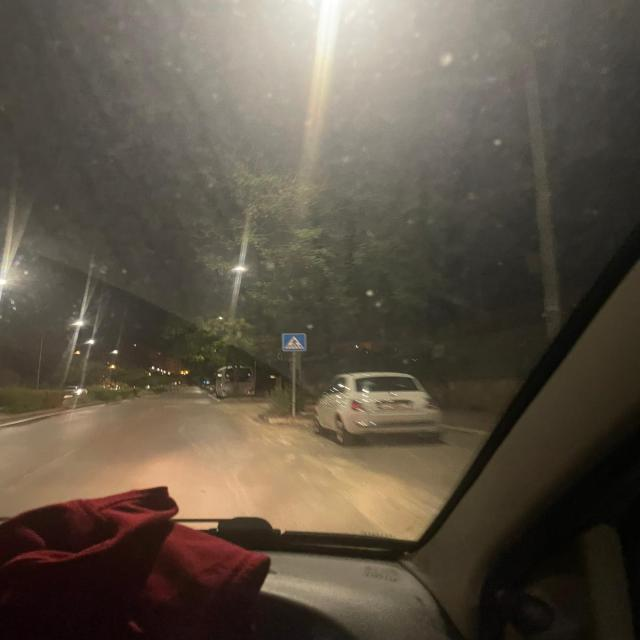info_crosswalk: (282, 333, 307, 352)
